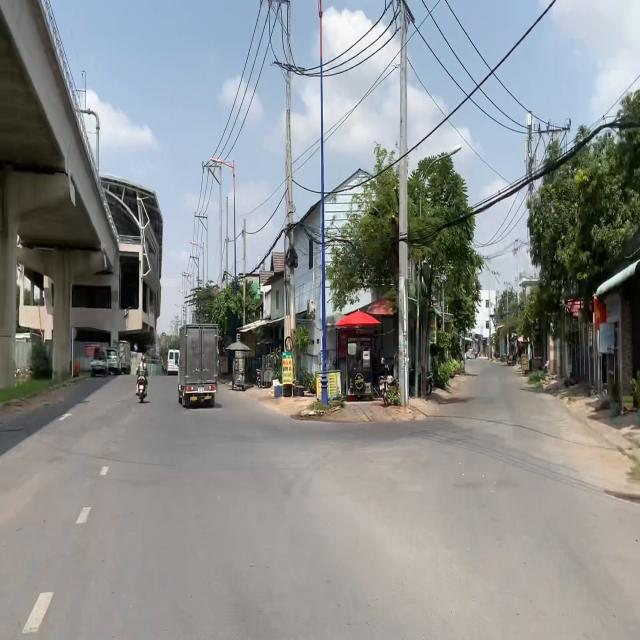Hieu lenh: (134, 343, 138, 352)
